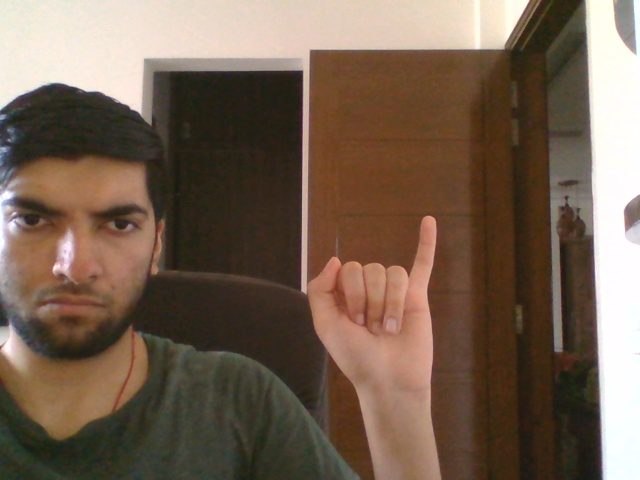LetterI: (306, 215, 437, 400)
